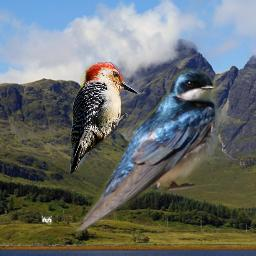Swallow: (75, 65, 222, 237)
Woodpecker: (70, 62, 142, 174)
